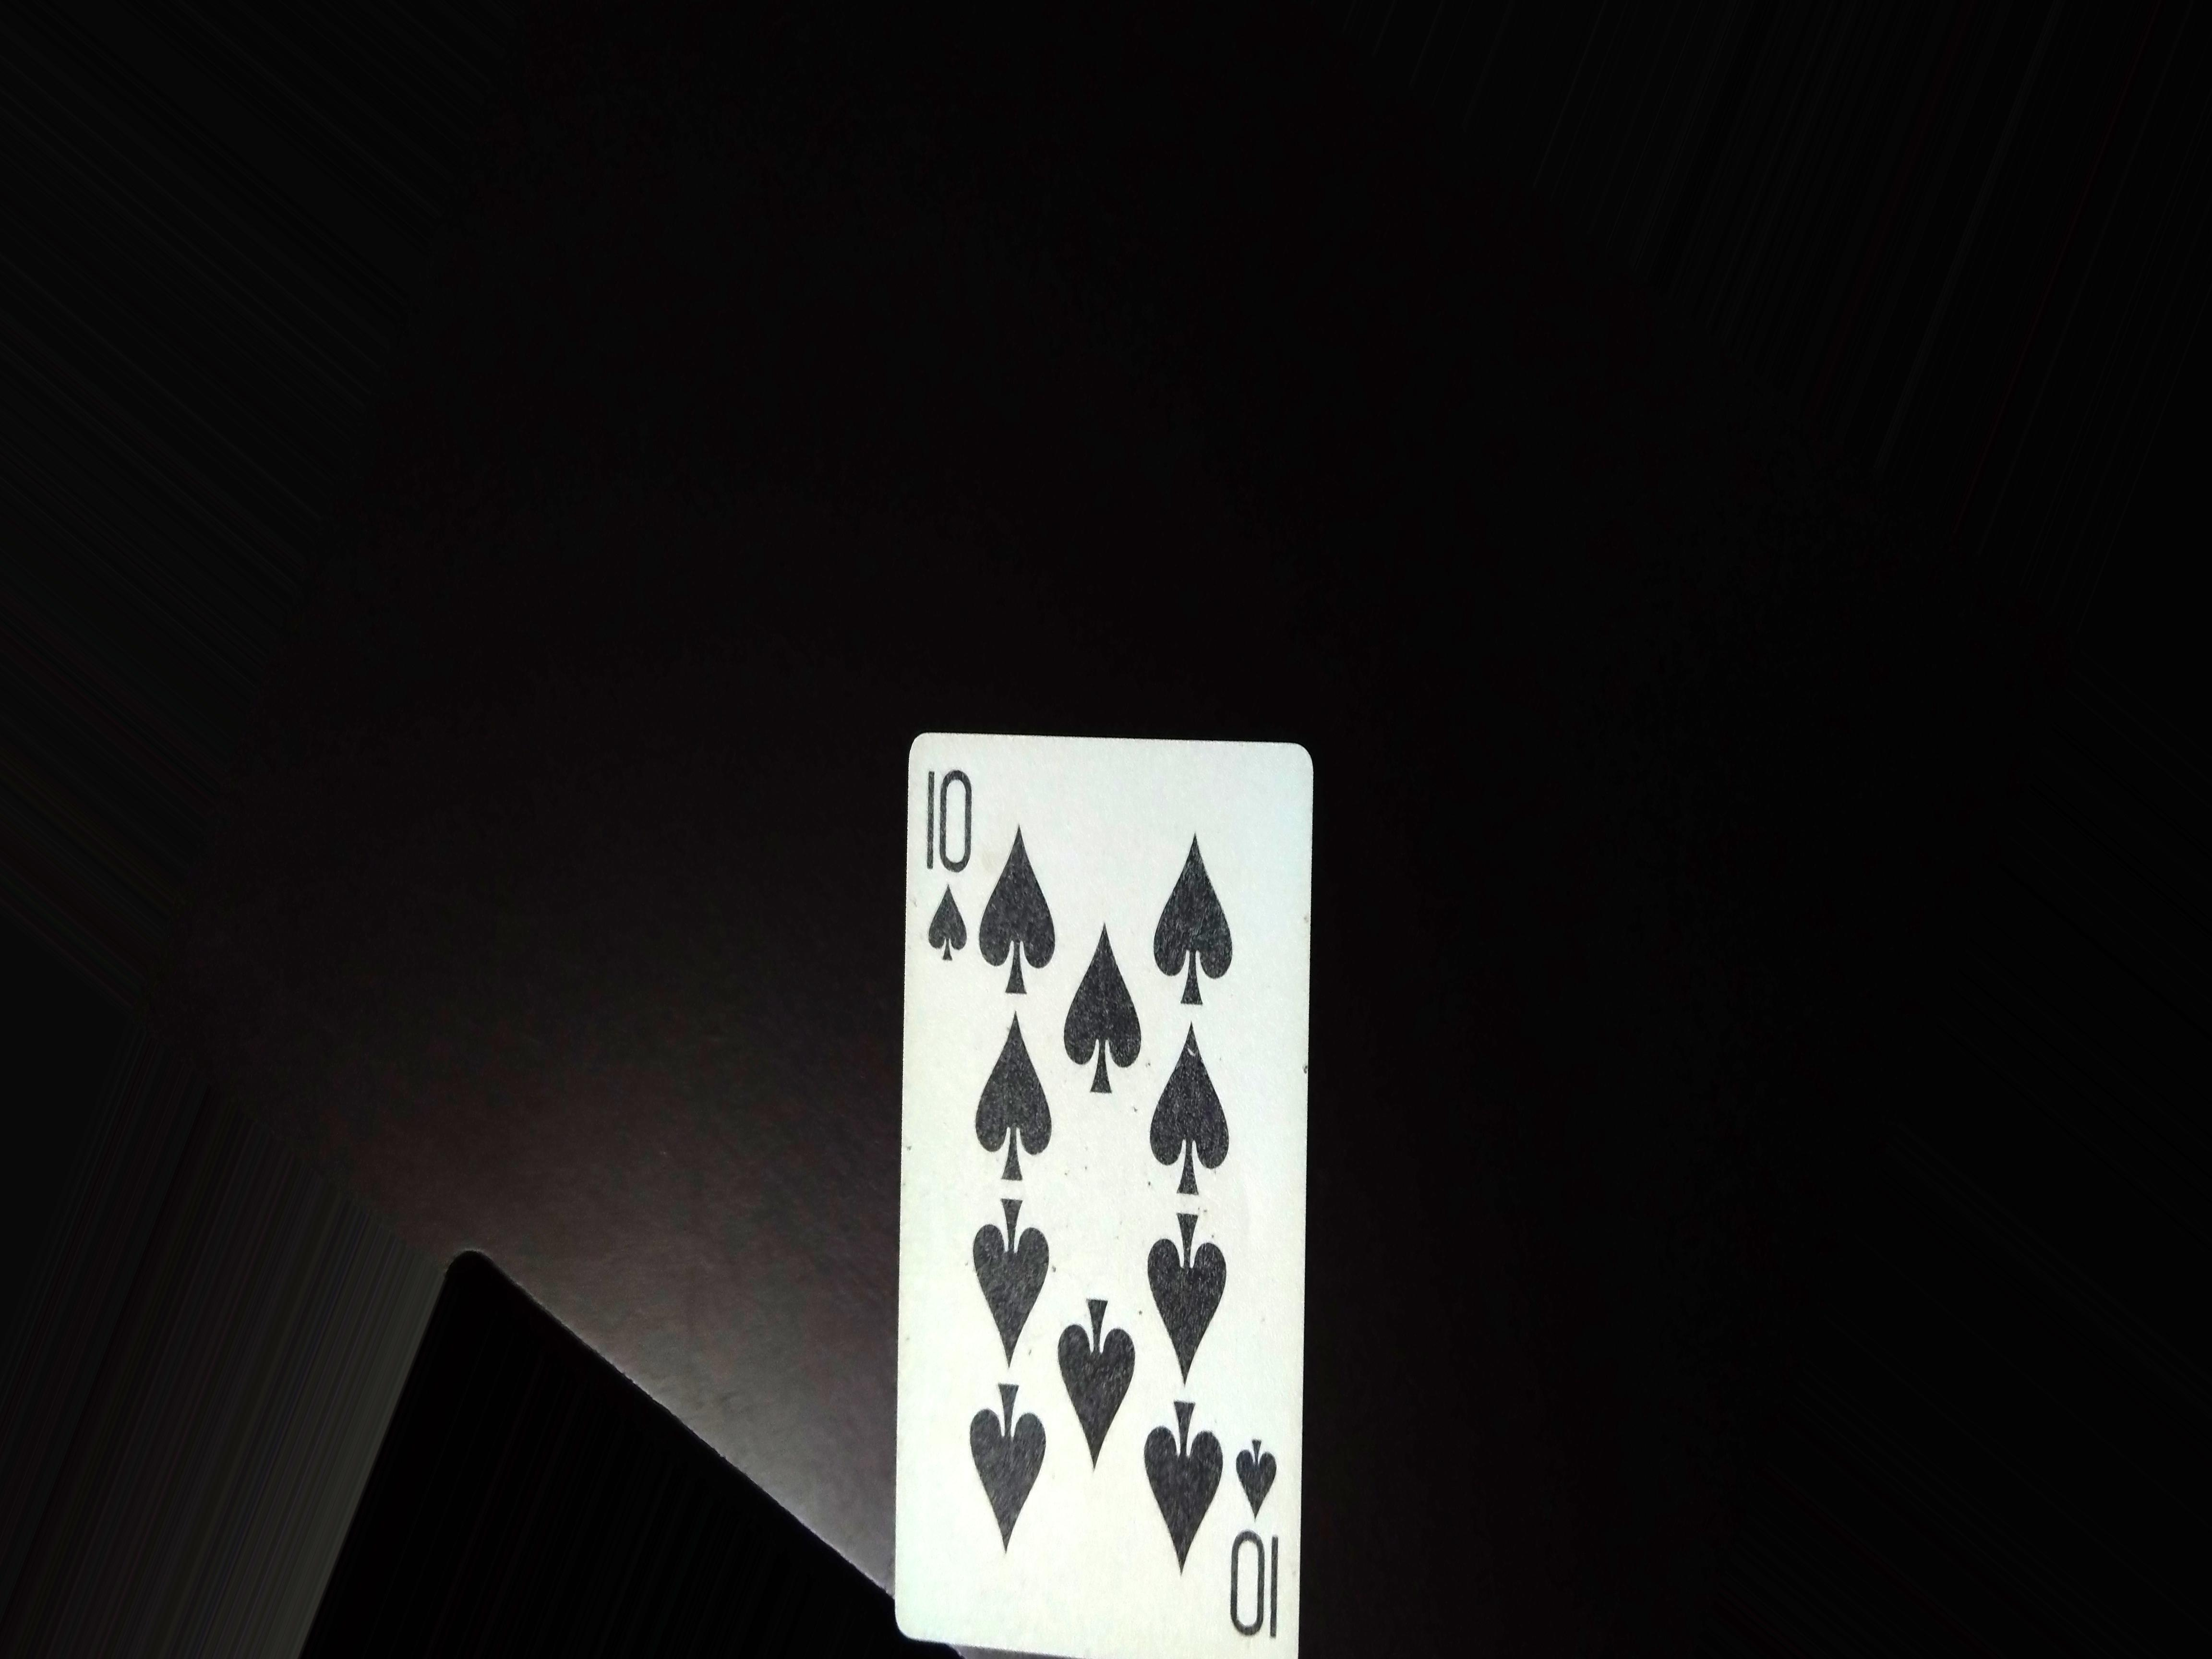10S: (921, 746, 979, 967)
